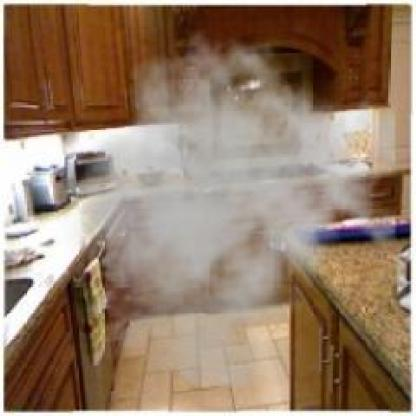Smoke: (49, 28, 396, 390)
